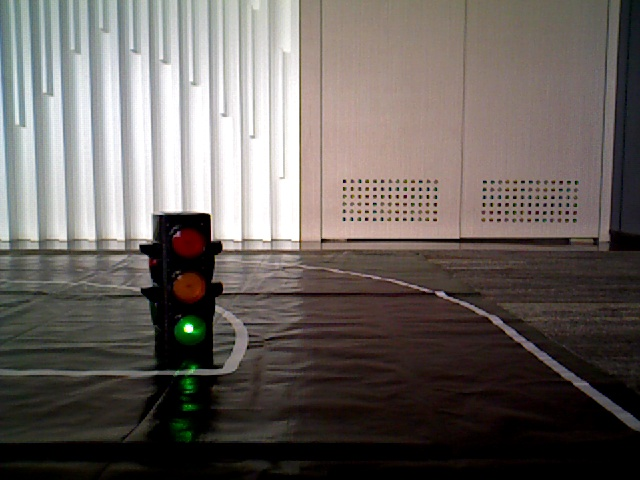green: (154, 217, 213, 356)
